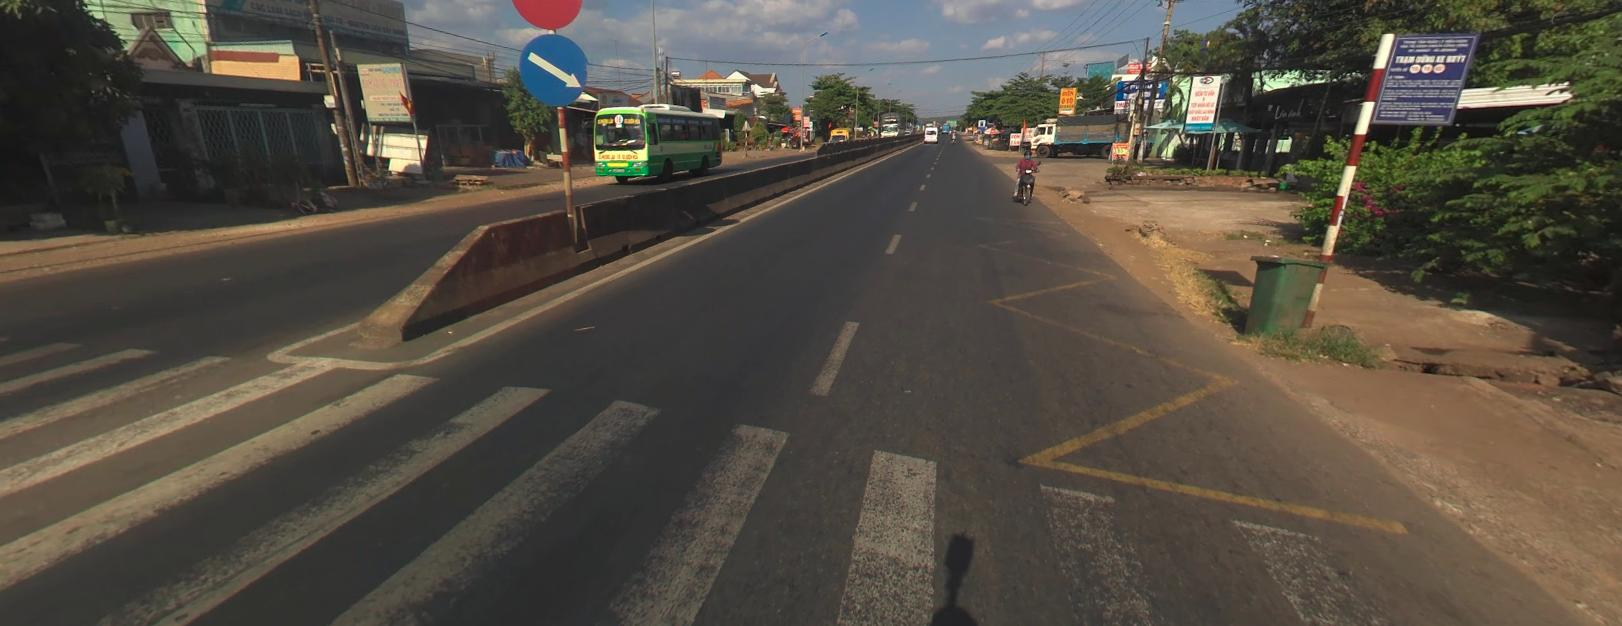Cam nguoc chieu: (512, 0, 585, 35)
Hieu lenh: (512, 32, 594, 105)
